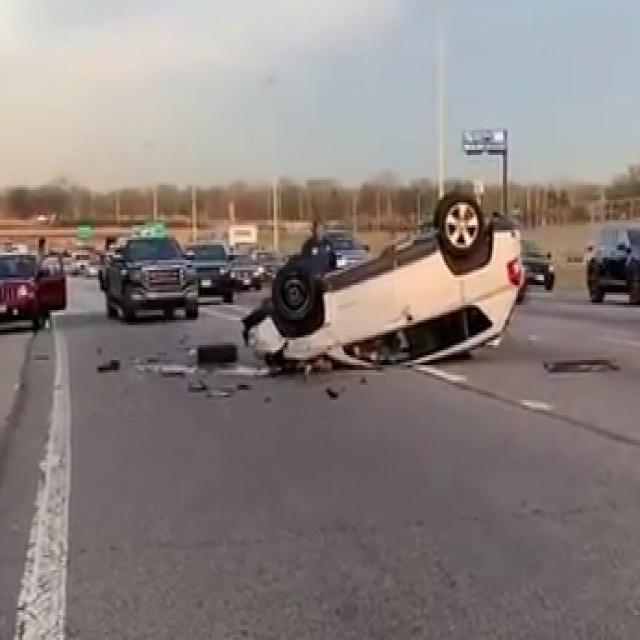accident: (227, 178, 524, 385)
